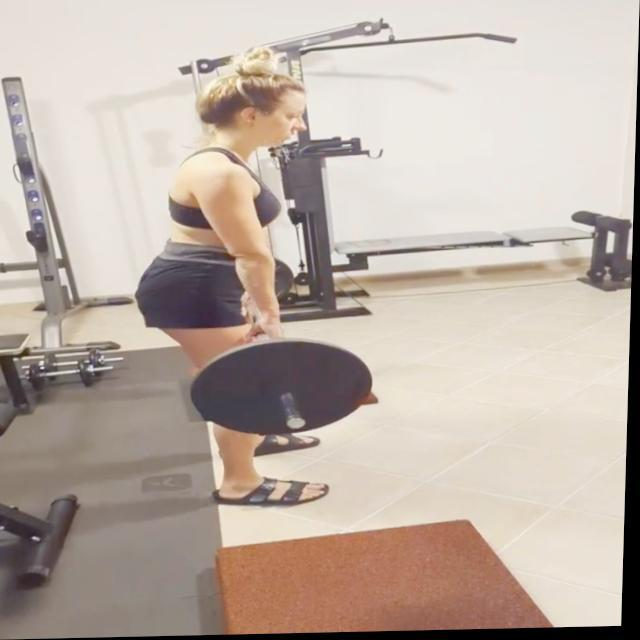barbell: (191, 334, 380, 441)
